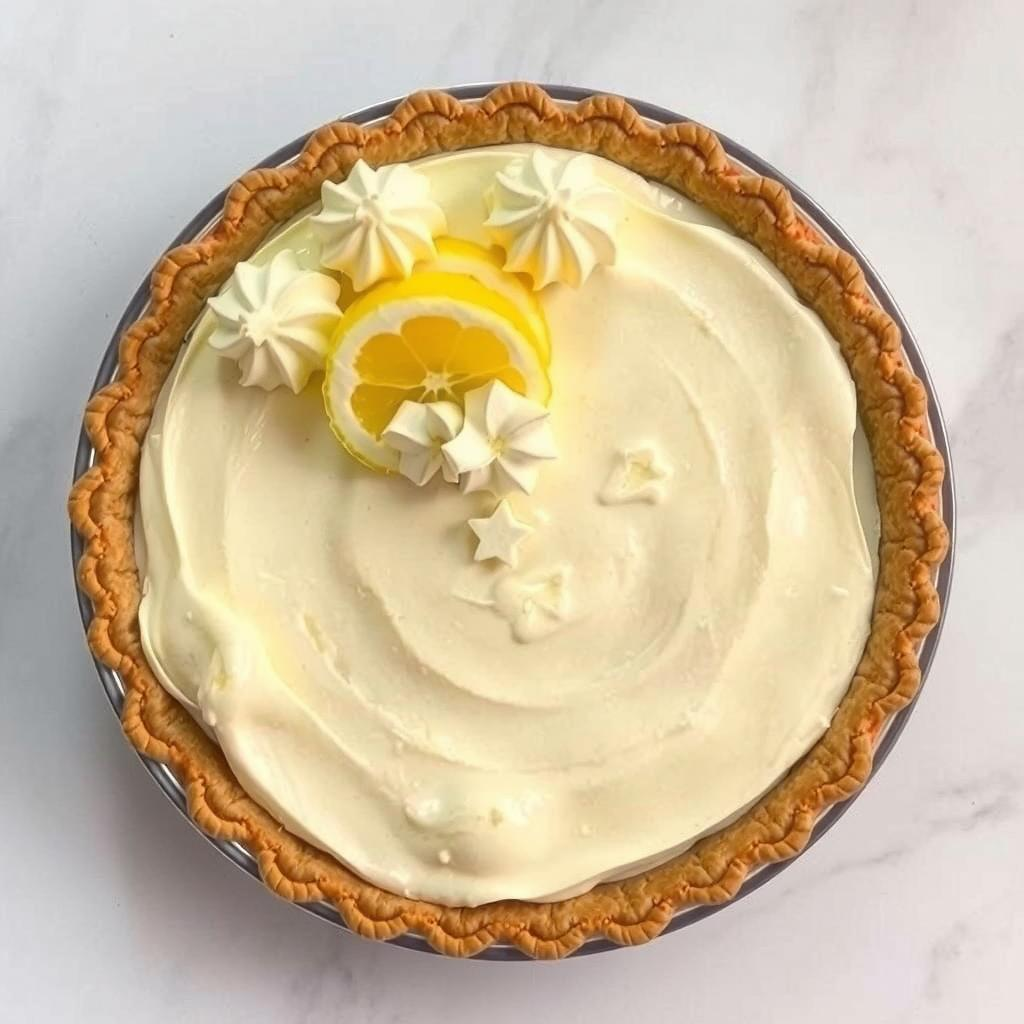pie: (63, 69, 959, 979)
